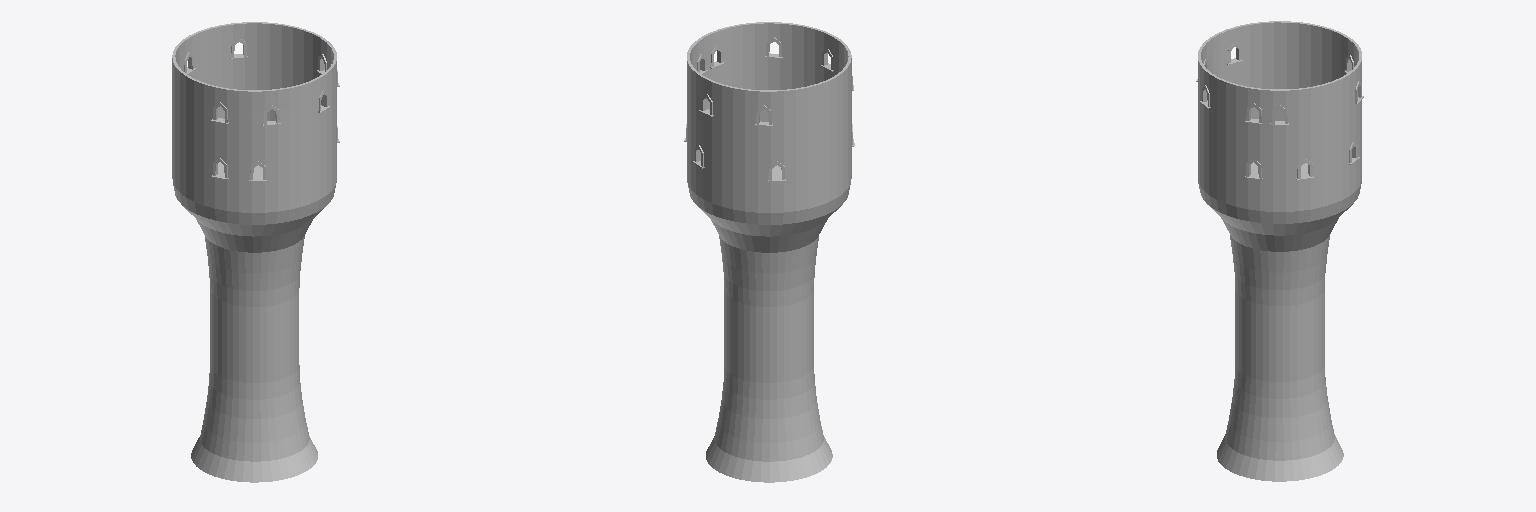
File: tower_01.obj
3 views of the same model, side by side, from view 1: azimuth 30°, elevation 25°; view 2: azimuth 150°, elevation 25°; view 3: azimuth 270°, elevation 25° (orthographic).
Visible parts, largest first — view 1: tower tower_wall; view 2: tower tower_wall; view 3: tower tower_wall.
Part boxes in pixels (bbox=[...]): tower tower_wall: bbox=[172, 22, 336, 482]; tower tower_wall: bbox=[687, 22, 851, 482]; tower tower_wall: bbox=[1198, 21, 1361, 481].
Size of the model in its own units: 26.38 by 69.32 by 26.4.